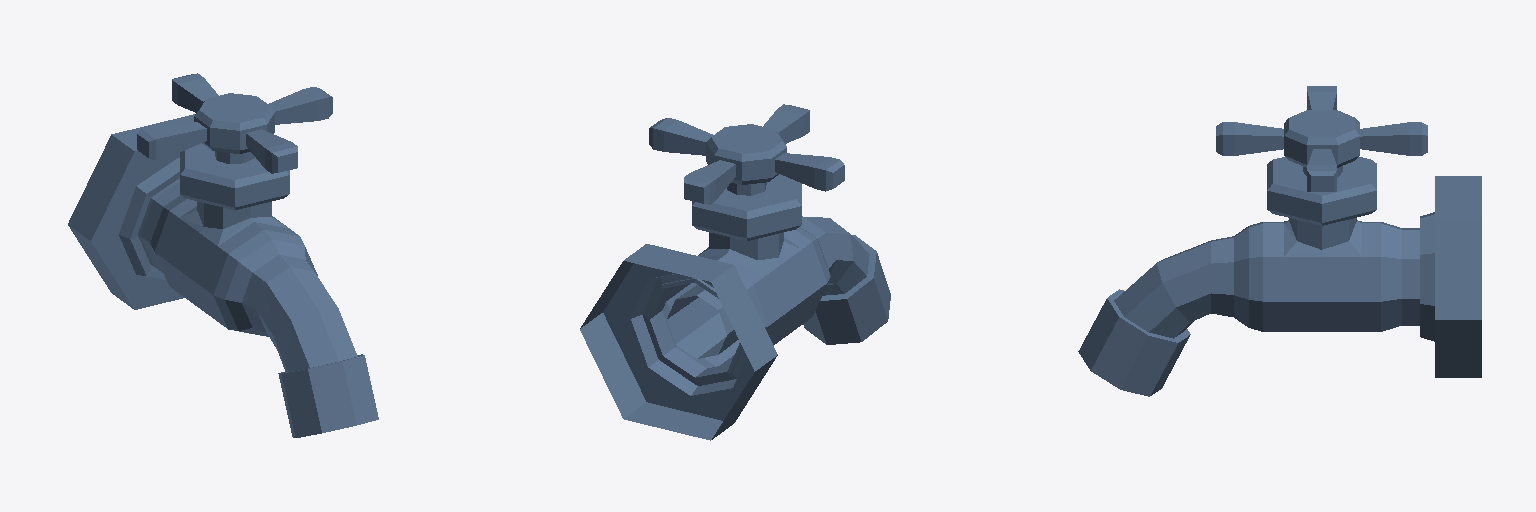
Rendered from faucet.obj.
The picture shows the model from 3 angles: view 1: azimuth 30°, elevation 25°; view 2: azimuth 150°, elevation 25°; view 3: azimuth 270°, elevation 25°; orthographic projection.
Size of the model in its own units: 3.61 by 4.96 by 6.85.